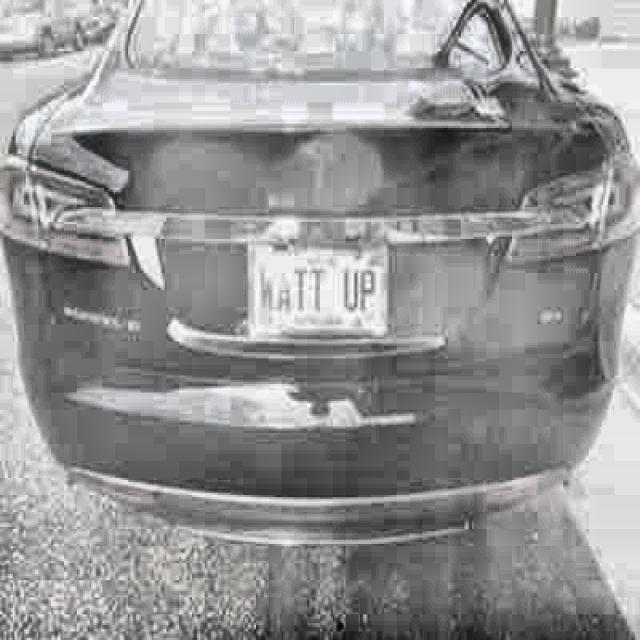license_plate: (241, 241, 393, 342)
